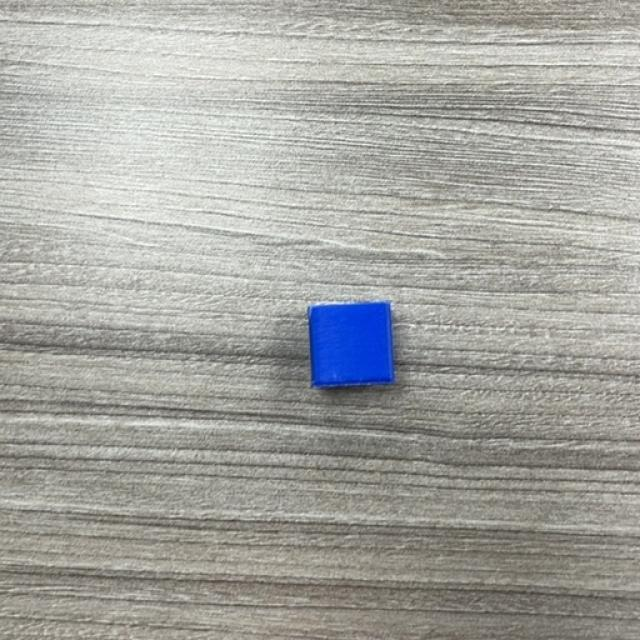Azul: (309, 302, 398, 390)
